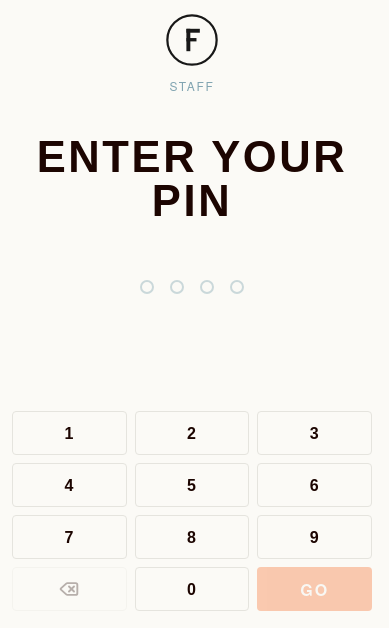
Scenario: LoginForm › delete button removes the last entered digit
Click the button "1" at [69, 433], box [12,411,127,455]
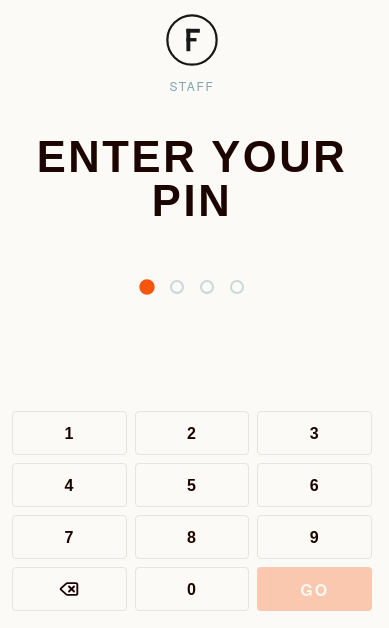
Click the button "2" at [192, 433], box [135,411,249,455]
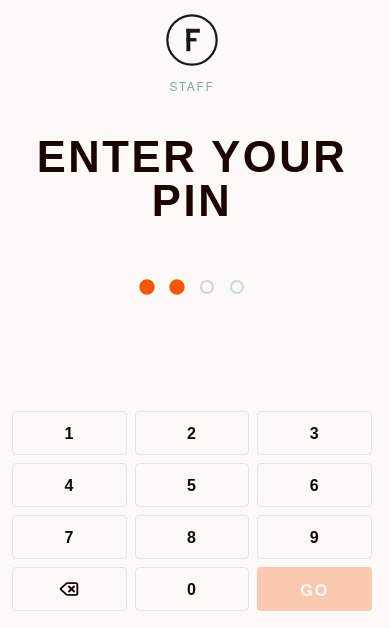
Click the button "3" at [315, 433], box [257,411,372,455]
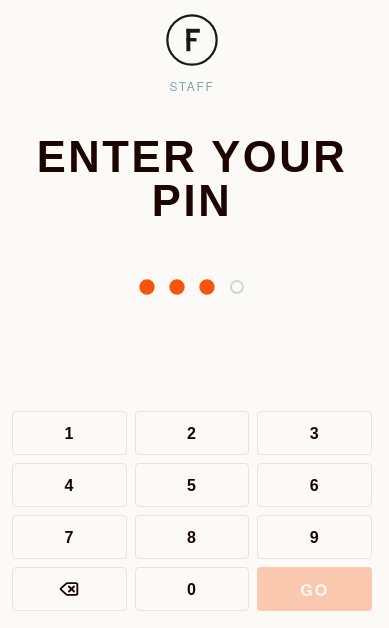
Click the button "4" at [69, 485], box [12,463,127,507]
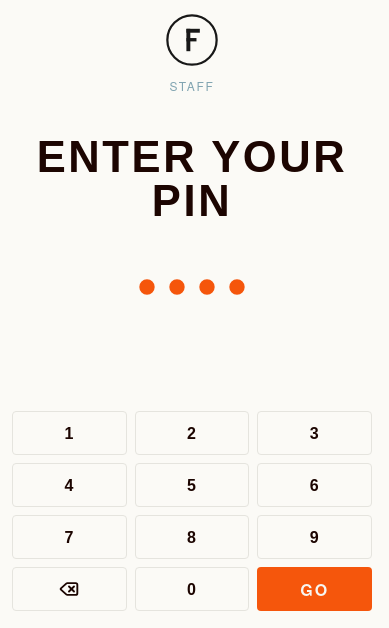
Click the button named "Delete last digit" at [69, 589], box [12,567,127,611]
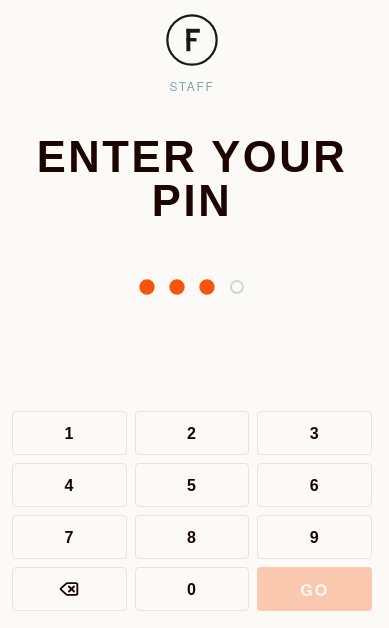
Now the button with aria-label "Confirm PIN" is disabled, box [257,567,372,611]
